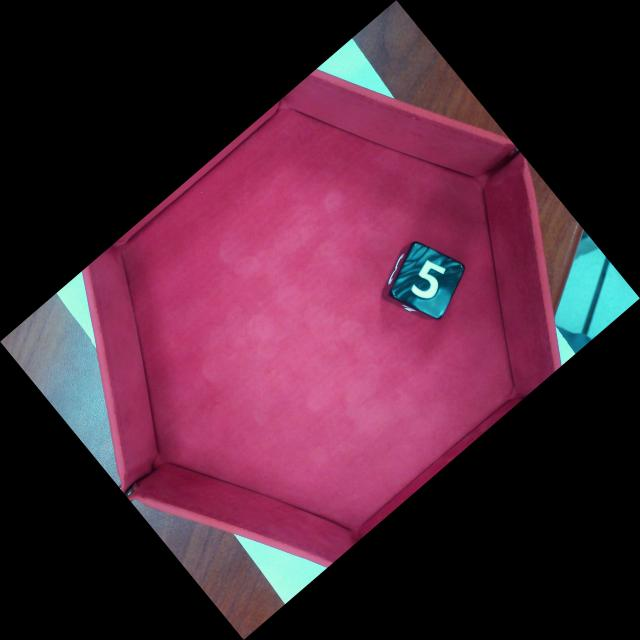dice: (389, 240, 465, 318)
